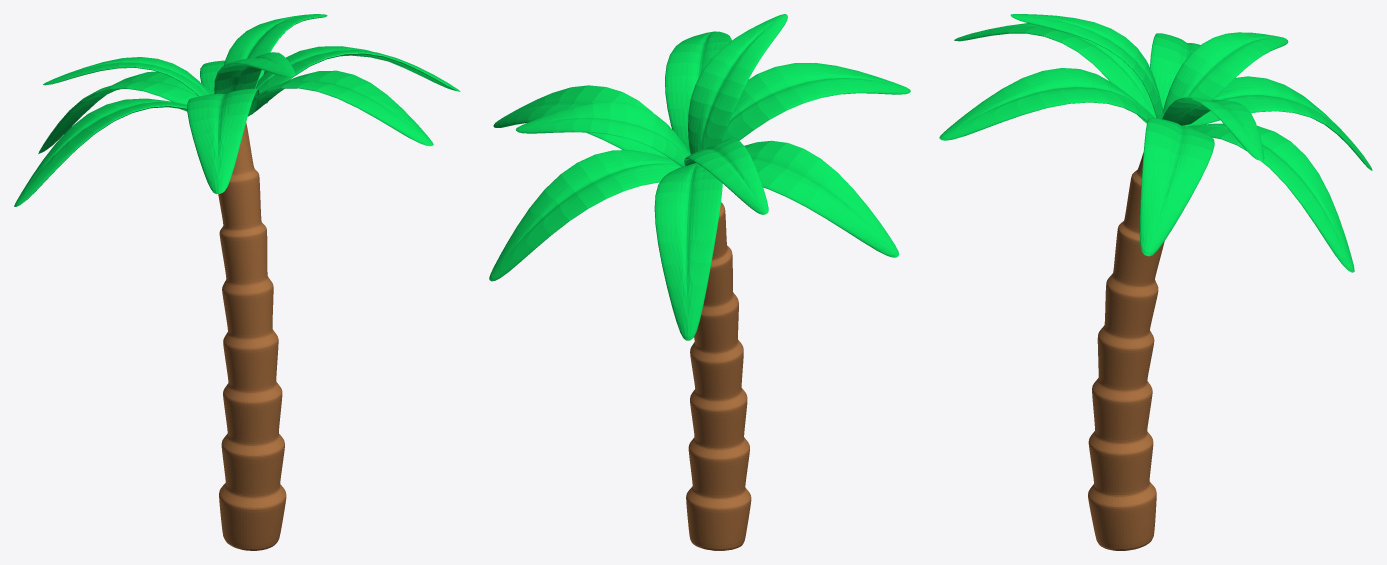
File: palm.glb
3 views of the same model, side by side, from view 1: azimuth 30°, elevation 25°; view 2: azimuth 150°, elevation 25°; view 3: azimuth 270°, elevation 25° (orthographic). The views are drawn at different scales.
Visible parts, largest first — view 1: Leafs, Trunk; view 2: Leafs, Trunk; view 3: Leafs, Trunk.
Part boxes in pixels (x1=…): Leafs: x1=14, y1=14, x2=460, y2=206; Trunk: x1=218, y1=122, x2=286, y2=550; Leafs: x1=489, y1=14, x2=910, y2=340; Trunk: x1=686, y1=202, x2=751, y2=550; Leafs: x1=939, y1=14, x2=1372, y2=272; Trunk: x1=1088, y1=152, x2=1164, y2=550.
Bounding box in the file's own units: 4.72 × 5.33 × 4.02.
